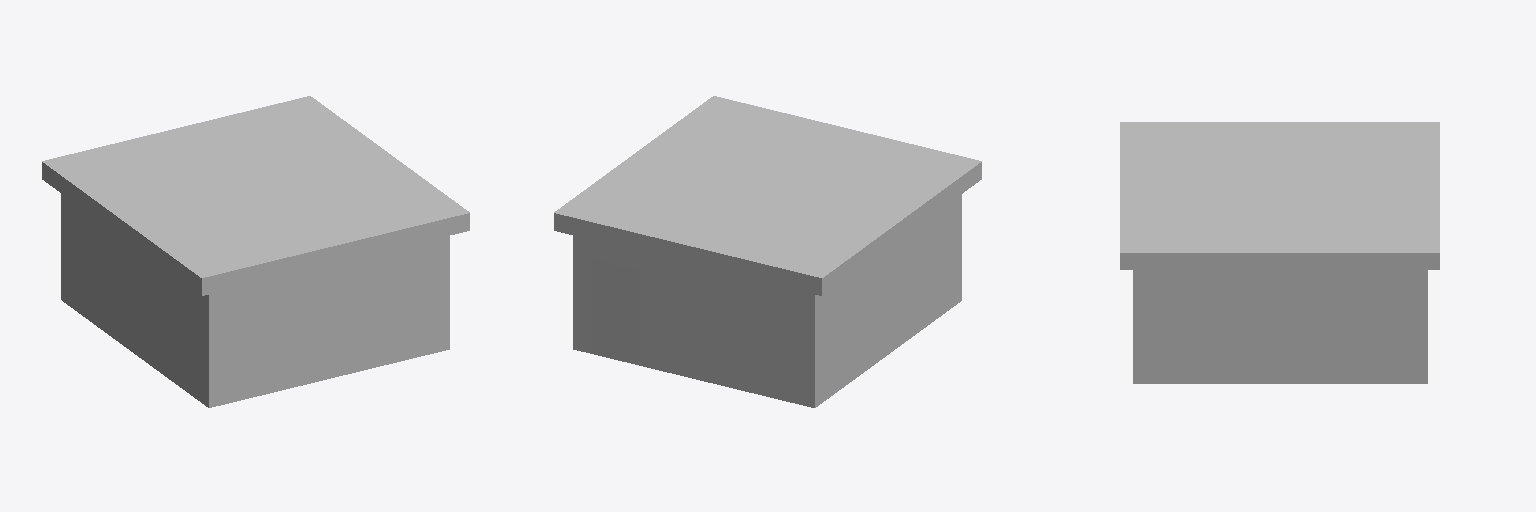
File: 1FloorBuilding.obj
The picture shows the model from 3 angles: view 1: azimuth 30°, elevation 25°; view 2: azimuth 150°, elevation 25°; view 3: azimuth 270°, elevation 25°; orthographic projection.
Parts seen in each view (by area): view 1: SP_TD_House; view 2: SP_TD_House; view 3: SP_TD_House.
Boxes of the visible parts, <box> form: SP_TD_House: <box>42,96,469,407</box>; SP_TD_House: <box>554,96,981,407</box>; SP_TD_House: <box>1120,122,1439,383</box>.
Bounding box in the file's own units: 10.22 × 5.01 × 10.54.